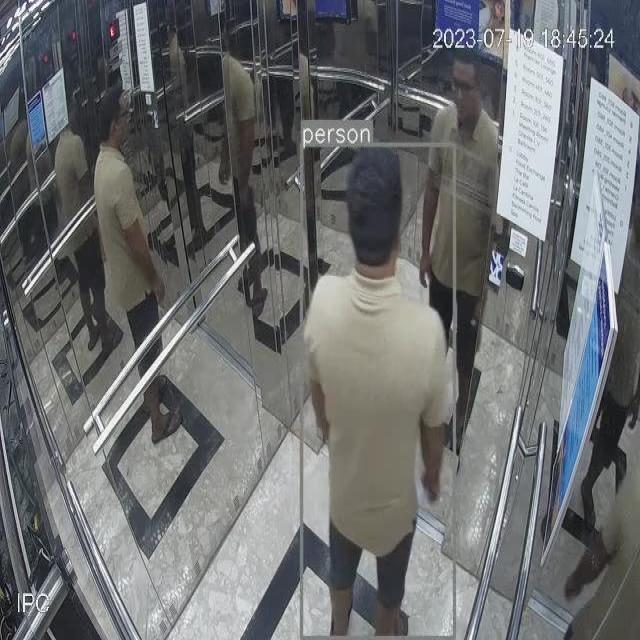person: (301, 148, 456, 636), (87, 98, 193, 458), (424, 40, 484, 436)
